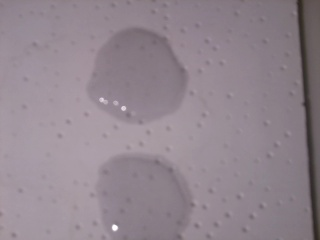Water_detected: (104, 159, 182, 237), (97, 32, 175, 103)
